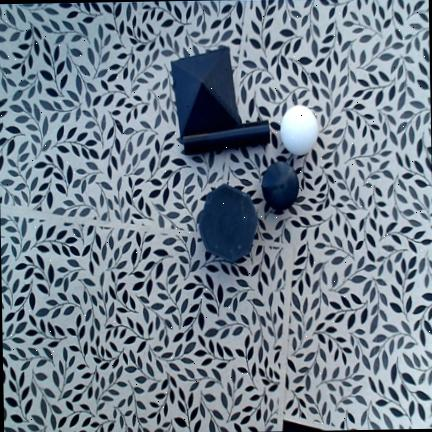Cilindro: (183, 119, 270, 154)
Esfera: (280, 104, 317, 155), (261, 162, 298, 210)
Piramide: (170, 47, 240, 139)
Prisma_hexagonal: (199, 185, 258, 262)
